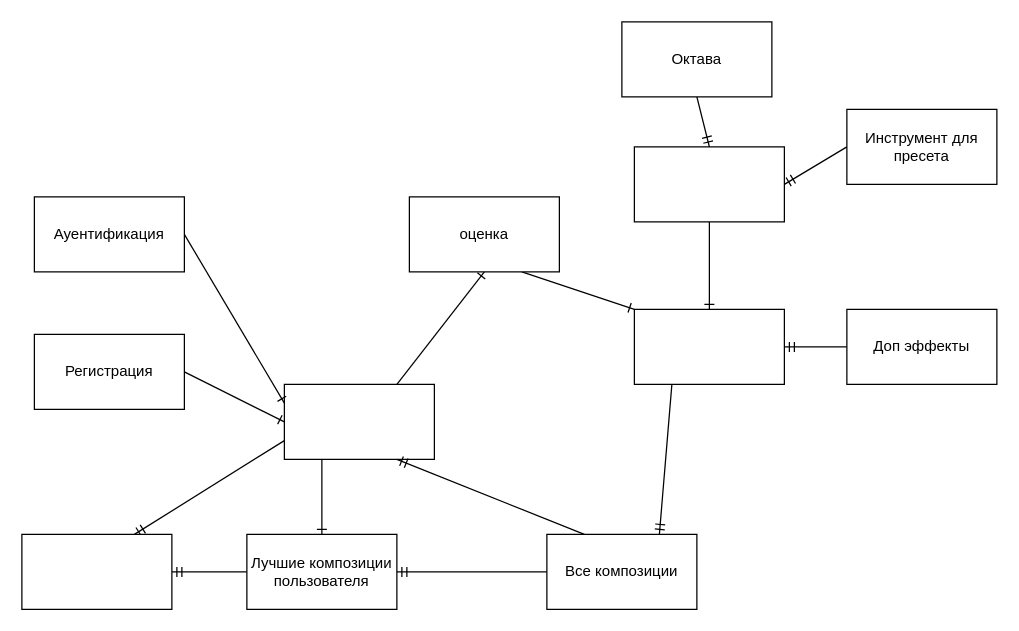
The diagram is 1019 pixels wide and 631 high, and some of its shapes have lost their labels. Each missing label, with the centre of its shape:
"Композиция" belongs at point (708, 346).
"Пользователь" belongs at point (358, 421).
"пресеты музыки" belongs at point (708, 184).
"Рейтинг пользователей" belongs at point (96, 571).
